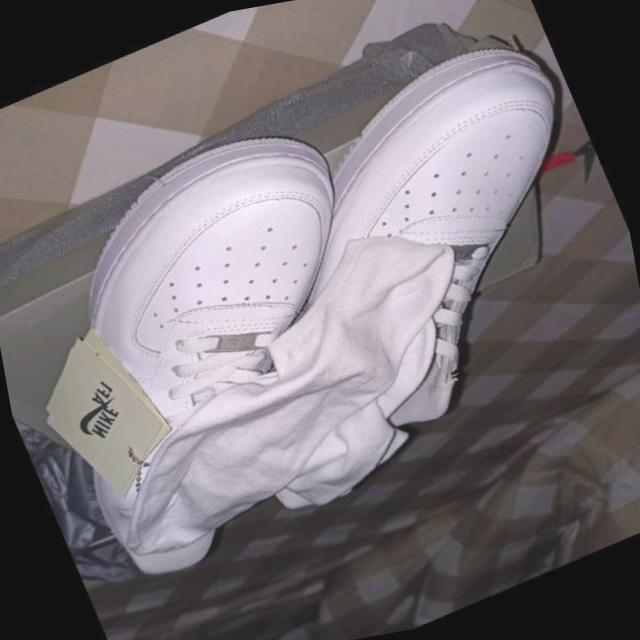nike_fake_airforce: (126, 11, 640, 568), (0, 90, 467, 607)
